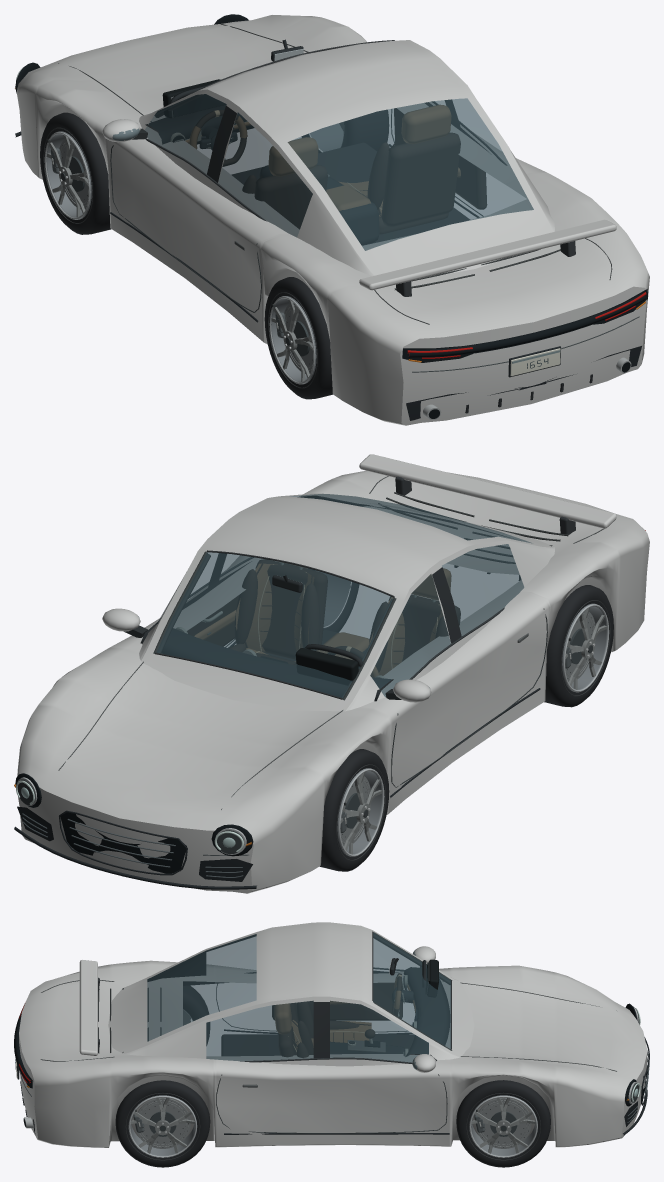
File: vesper-gt.glb
3 renders of one model, top to bottom at view 1: azimuth 30°, elevation 25°; view 2: azimuth 150°, elevation 25°; view 3: azimuth 270°, elevation 25°, orthographic. The views are drawn at different scales.
Visible parts, largest first — view 1: paint, glass, wheelSurface (×3), SeatUpholstery, trim, CabinMouldings, CabinLeather, SteeringLeather; view 2: paint, glass, trim, wheelSurface (×3), SeatUpholstery, CabinMouldings, CabinLeather; view 3: paint, glass, wheelSurface (×3), trim, CabinMouldings, SeatUpholstery, CabinLeather, CockpitHardware.
Part boxes in pixels (x1=…): paint: x1=16, y1=15, x2=649, y2=425; glass: x1=112, y1=94, x2=533, y2=250; wheelSurface (×3): x1=40, y1=110, x2=388, y2=399; SeatUpholstery: x1=242, y1=105, x2=460, y2=233; trim: x1=15, y1=14, x2=647, y2=420; CabinMouldings: x1=145, y1=39, x2=469, y2=245; CabinLeather: x1=186, y1=108, x2=486, y2=210; SteeringLeather: x1=189, y1=110, x2=247, y2=166; paint: x1=17, y1=454, x2=649, y2=893; glass: x1=138, y1=494, x2=531, y2=697; trim: x1=14, y1=476, x2=604, y2=889; wheelSurface (×3): x1=286, y1=563, x2=613, y2=871; SeatUpholstery: x1=229, y1=559, x2=460, y2=676; CabinMouldings: x1=140, y1=575, x2=393, y2=701; CabinLeather: x1=187, y1=595, x2=369, y2=659; paint: x1=19, y1=922, x2=647, y2=1147; glass: x1=147, y1=933, x2=450, y2=1069; wheelSurface (×3): x1=115, y1=986, x2=550, y2=1167; trim: x1=14, y1=931, x2=649, y2=1135; CabinMouldings: x1=221, y1=958, x2=449, y2=1060; SeatUpholstery: x1=275, y1=1001, x2=371, y2=1057; CabinLeather: x1=272, y1=982, x2=415, y2=1042; CockpitHardware: x1=348, y1=962, x2=429, y2=1056.
Size of the model in its own units: 2.05 by 1.3 by 4.57.
